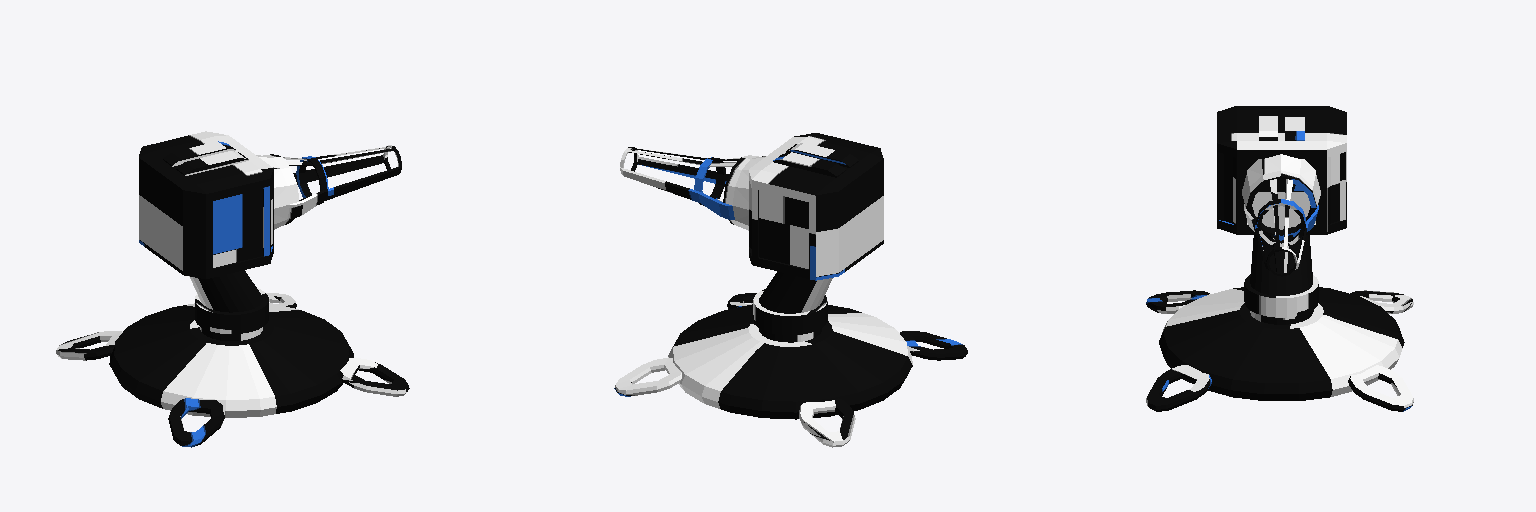
The picture shows the model from 3 angles: view 1: azimuth 30°, elevation 25°; view 2: azimuth 150°, elevation 25°; view 3: azimuth 270°, elevation 25°; orthographic projection.
Parts seen in each view (by area): view 1: Cube.002_Cube.003; view 2: Cube.002_Cube.003; view 3: Cube.002_Cube.003.
Part boxes in pixels (left/top/right/bottom): Cube.002_Cube.003: left=56, top=131, right=409, bottom=447; Cube.002_Cube.003: left=614, top=133, right=967, bottom=447; Cube.002_Cube.003: left=1146, top=106, right=1413, bottom=411.
Bounding box in the file's own units: 4 × 3.08 × 3.33.
Materials: 1 (1 with a texture image).